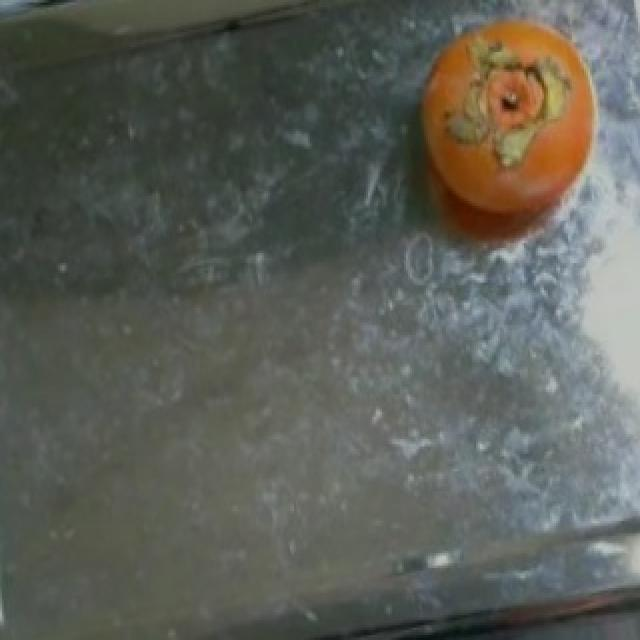Fruit: (402, 0, 622, 270)
